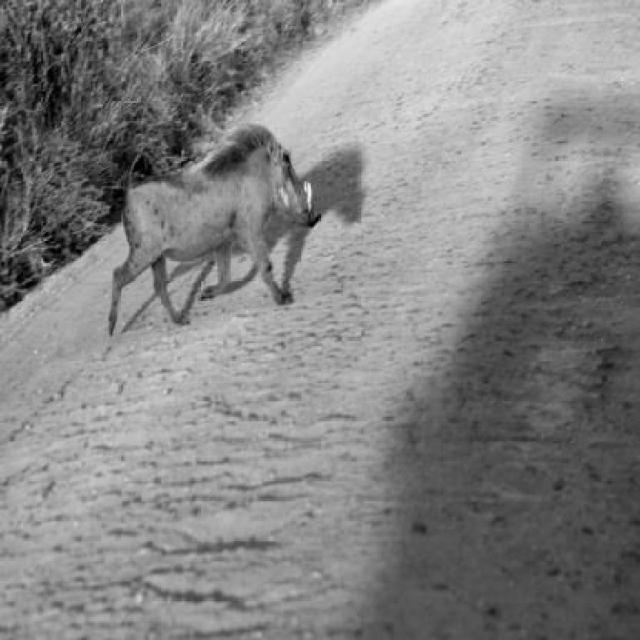Boar: (106, 124, 322, 338)
